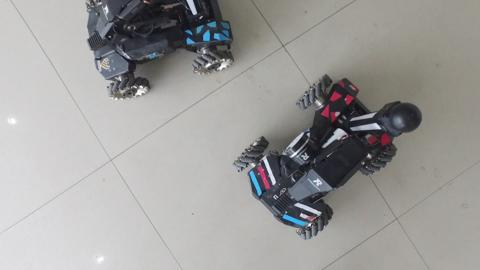chariot: (227, 66, 425, 242), (78, 1, 242, 104)
